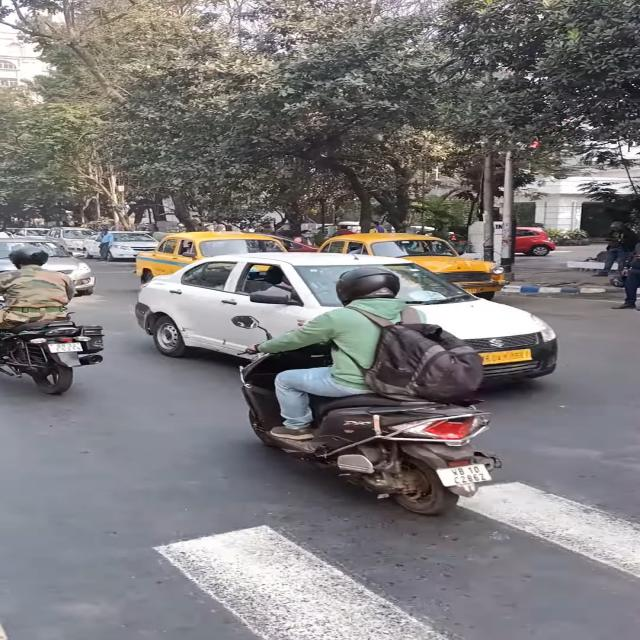Scooty: (228, 266, 509, 518)
